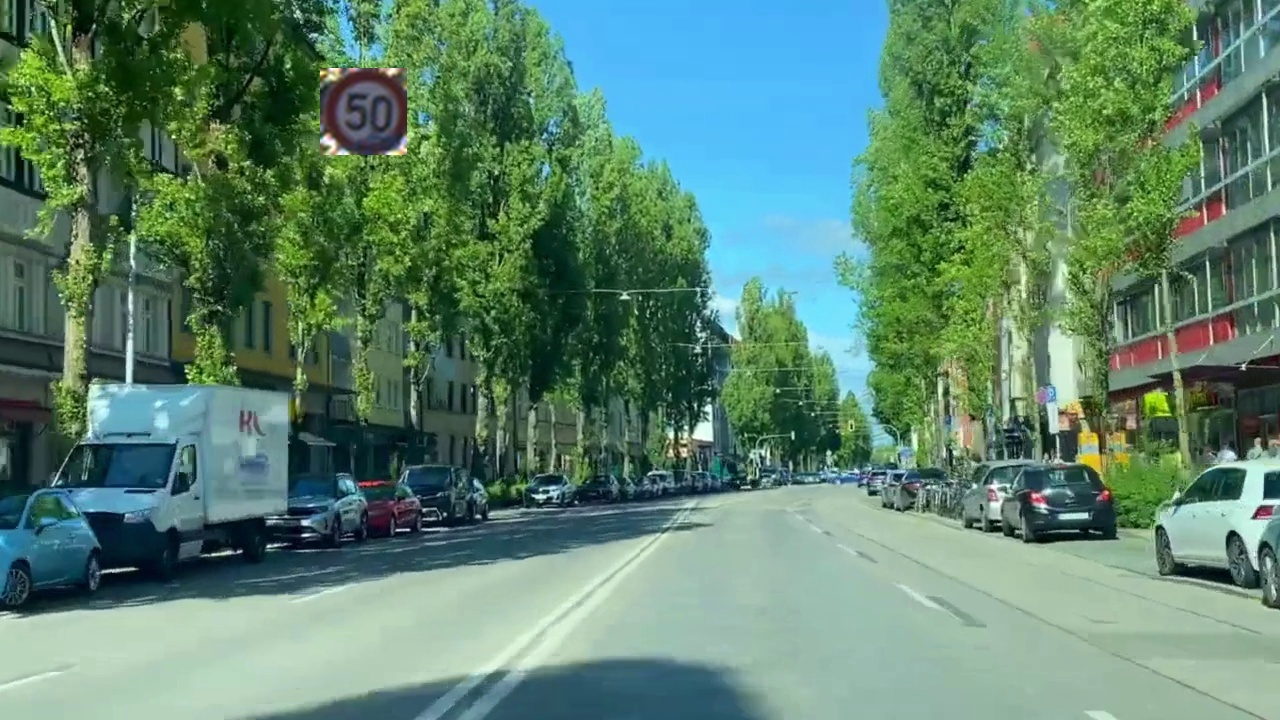Speed 50: (320, 68, 407, 155)
